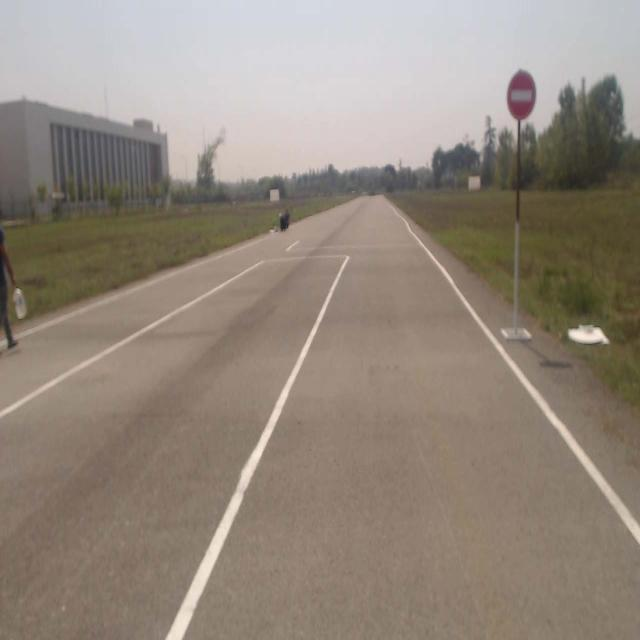girisyok: (508, 71, 535, 118)
